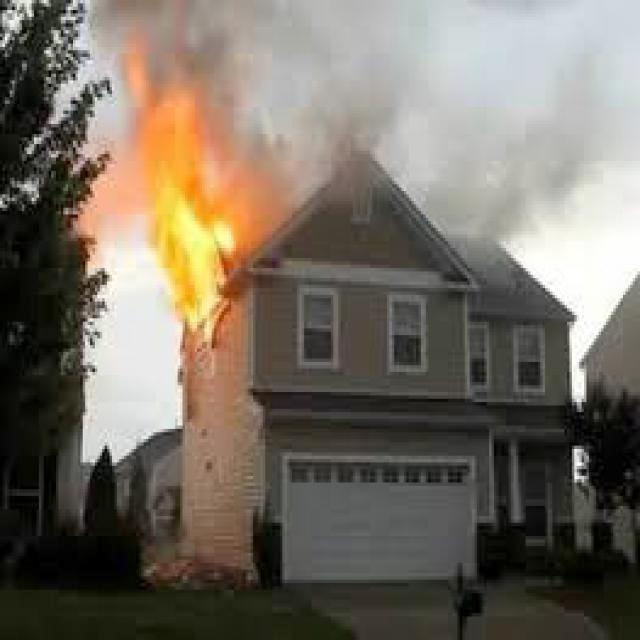fire: (148, 158, 232, 315)
smoke: (155, 7, 639, 146)
